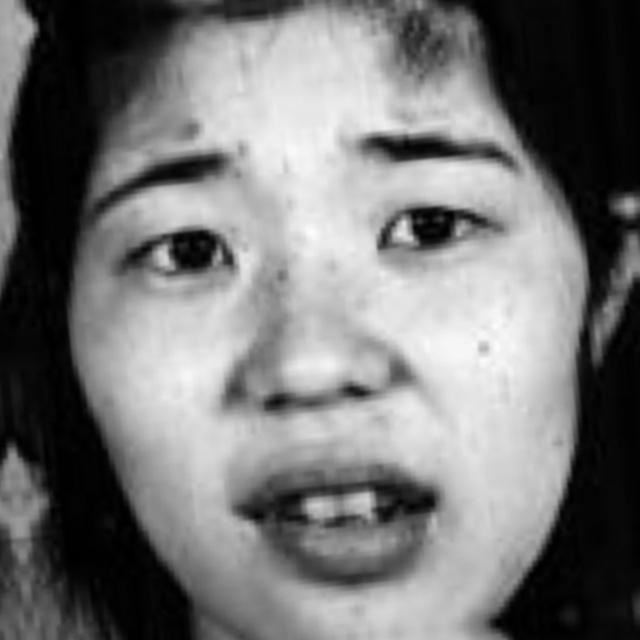fear: (89, 24, 577, 631)
